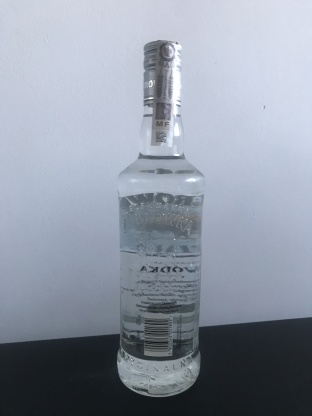nakretka: (140, 36, 184, 110)
